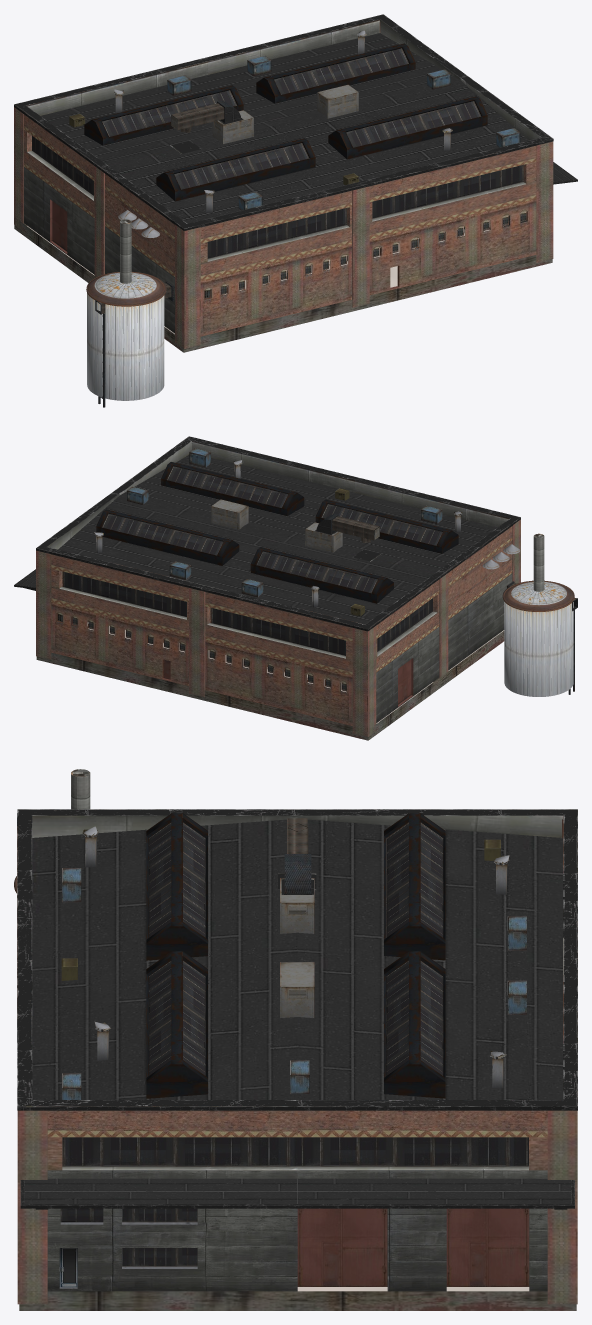
File: factoryLOD0.glb
3 views of the same model, one above another, from view 1: azimuth 30°, elevation 25°; view 2: azimuth 150°, elevation 25°; view 3: azimuth 270°, elevation 25° (orthographic). The views are drawn at different scales.
Visible parts, largest first — view 1: factory, big_tank, stairs, pipe_3; view 2: factory, big_tank, stairs, pipe_2; view 3: factory.
Part boxes in pixels (x1,y1,x2,y2): factory: [14, 14, 577, 352]; big_tank: [86, 271, 166, 400]; stairs: [95, 210, 173, 407]; pipe_3: [120, 222, 131, 283]; factory: [14, 436, 520, 740]; big_tank: [502, 580, 574, 696]; stairs: [482, 544, 577, 694]; pipe_2: [533, 533, 543, 591]; factory: [17, 809, 577, 1310].
Size of the model in its own units: 57.41 by 23.62 by 36.36.
1 material, 1 textured.
